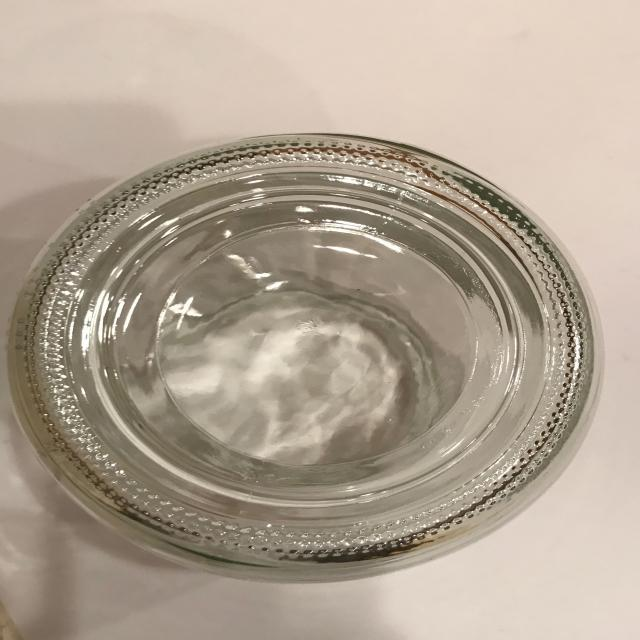glass: (10, 132, 607, 580)
